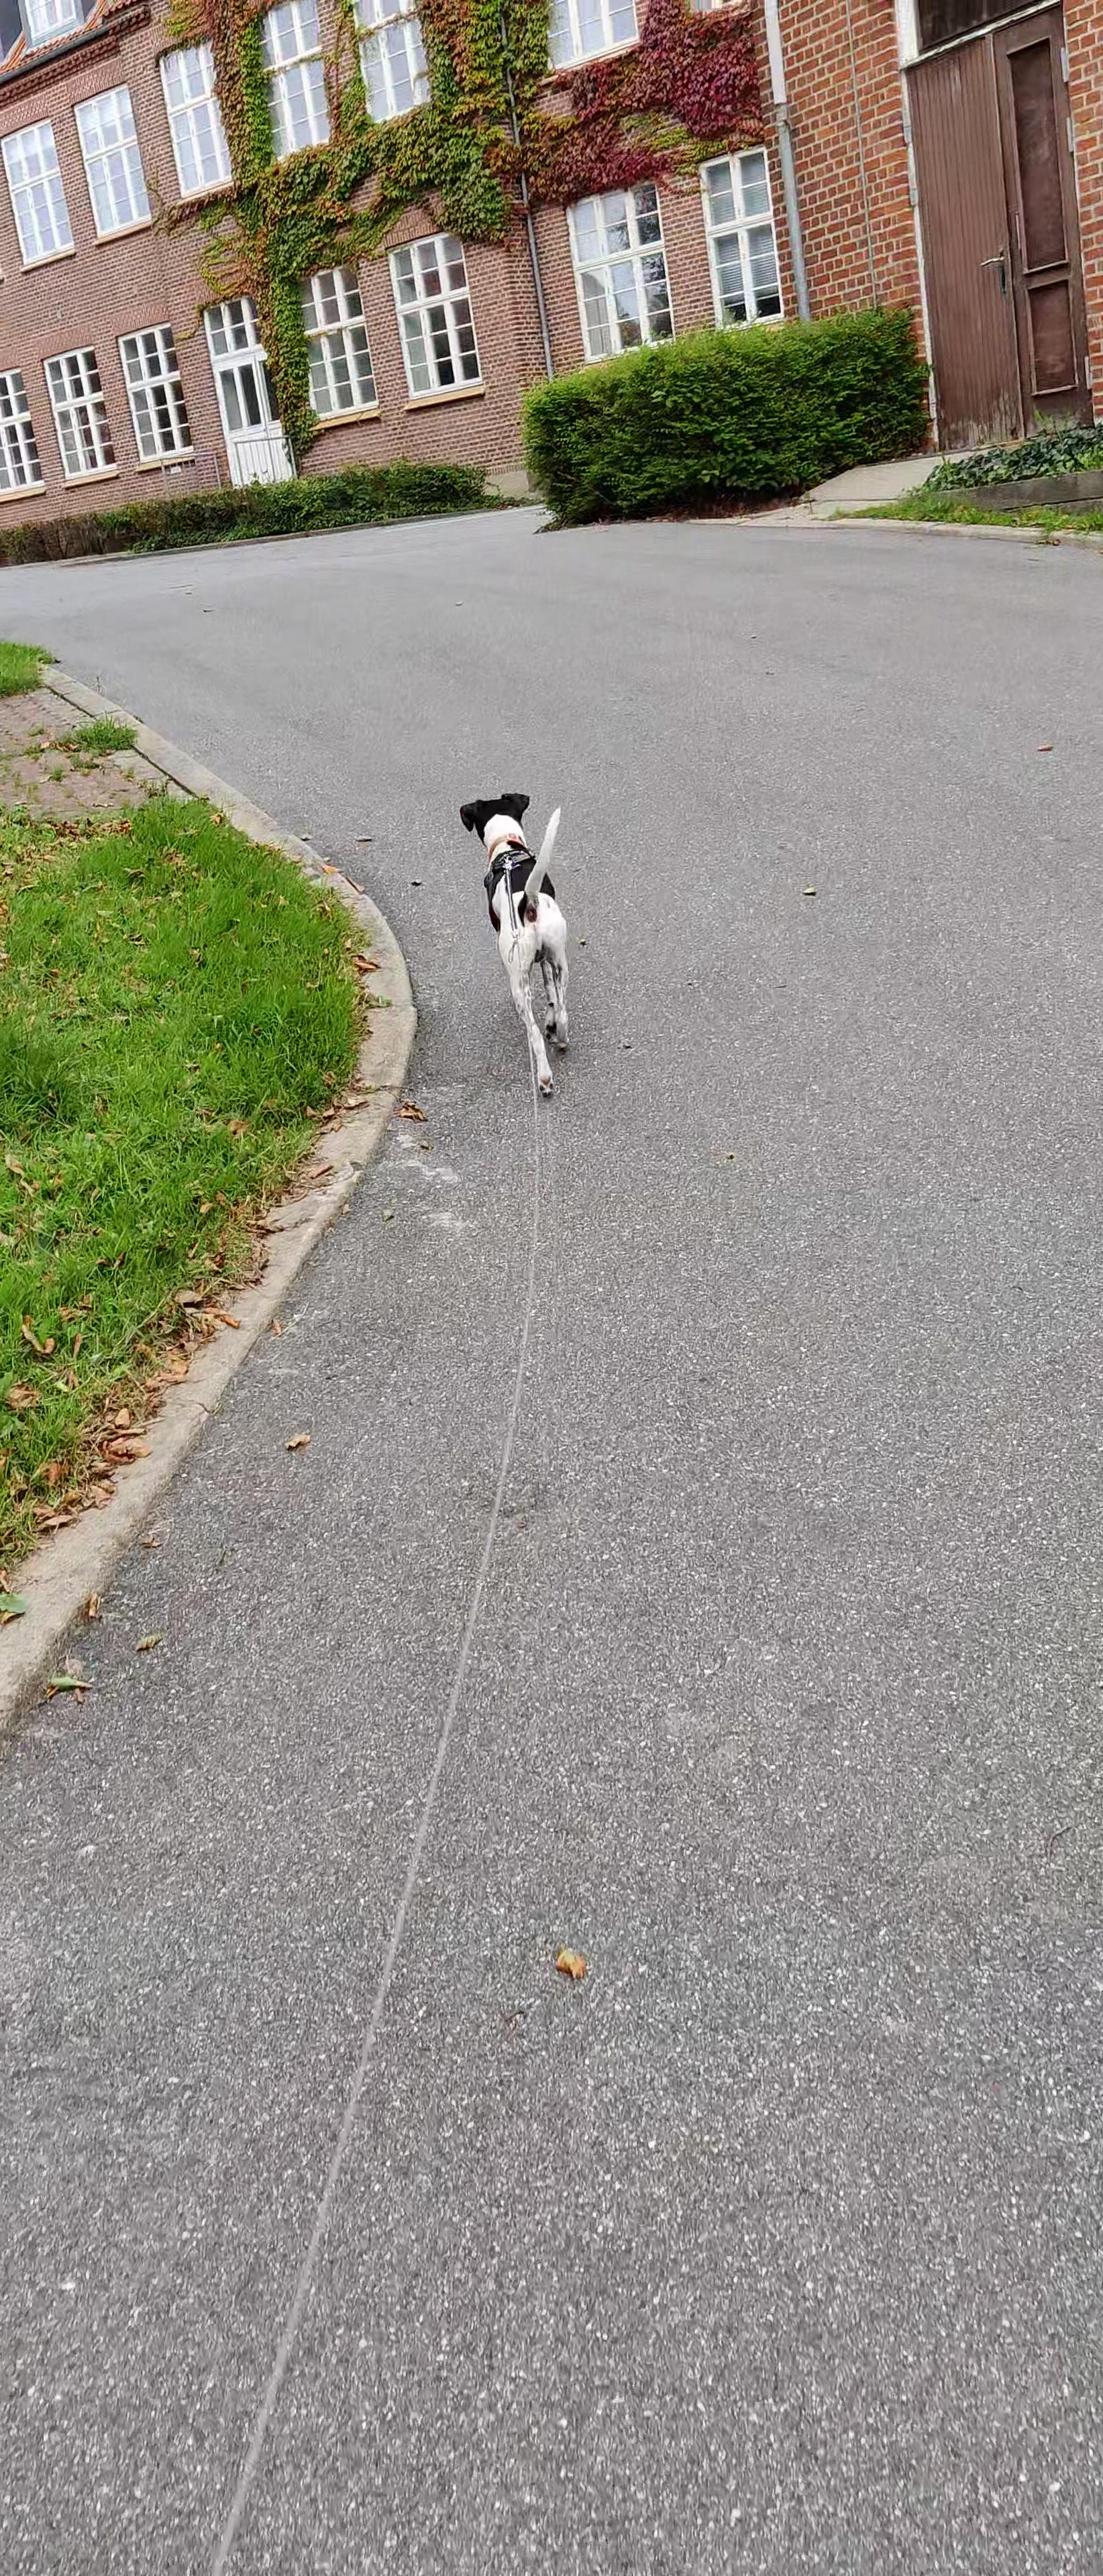Dog: (452, 787, 577, 1112)
